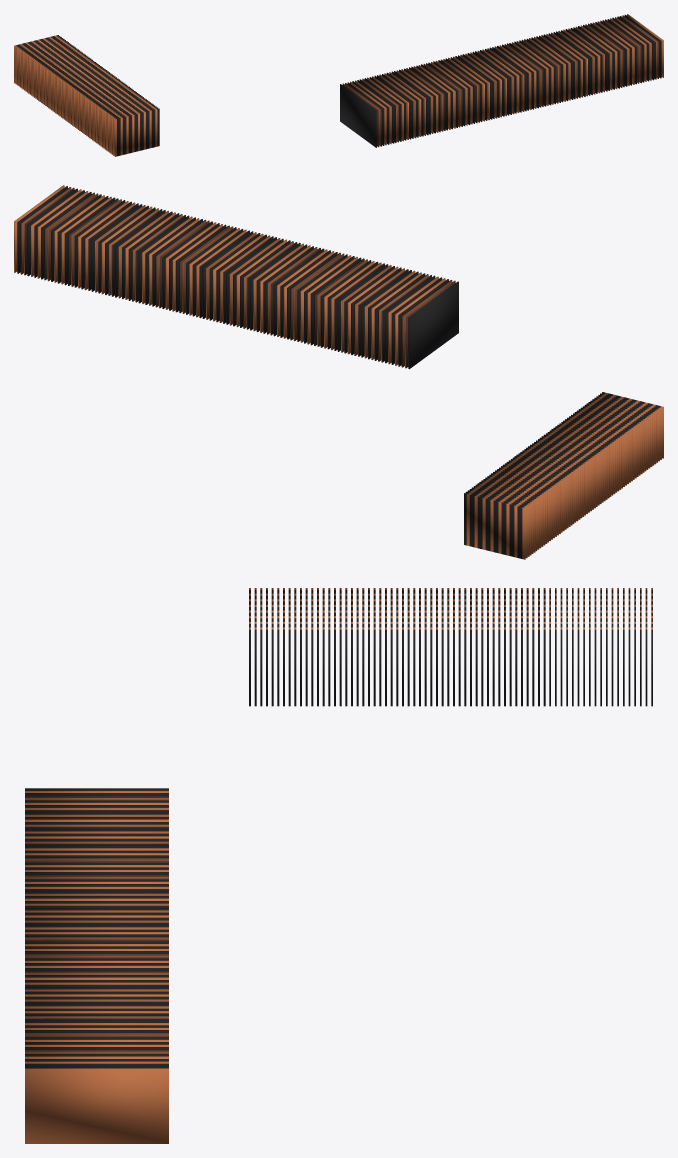
Rendered from cooling_radiator_left.obj.
3 views of the same model, one above another, from view 1: azimuth 30°, elevation 25°; view 2: azimuth 150°, elevation 25°; view 3: azimuth 270°, elevation 25° (orthographic). The views are drawn at different scales.
Visible parts, largest first — view 1: cooling_radiator_left; view 2: cooling_radiator_left; view 3: cooling_radiator_left.
Part boxes in pixels (left/top/right/bottom): cooling_radiator_left: left=14, top=14, right=663, bottom=156; cooling_radiator_left: left=14, top=185, right=663, bottom=559; cooling_radiator_left: left=25, top=588, right=652, bottom=1143.
Bounding box in the file's own units: 111 × 8 × 61.
Materials: 1 (1 with a texture image).
